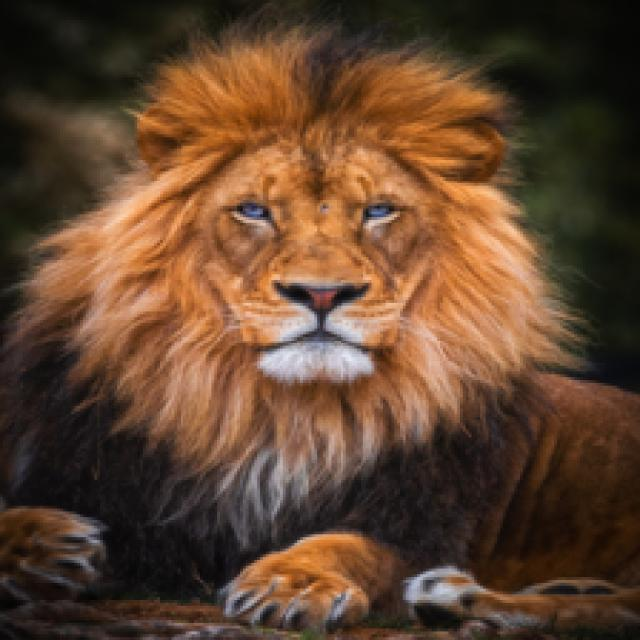lion: (11, 52, 631, 633)
